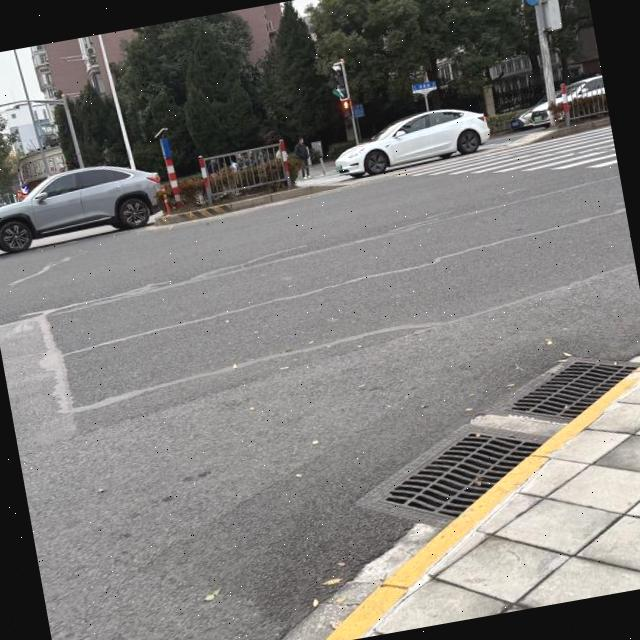curb: (324, 365, 640, 640), (153, 185, 345, 226), (530, 117, 608, 142)
